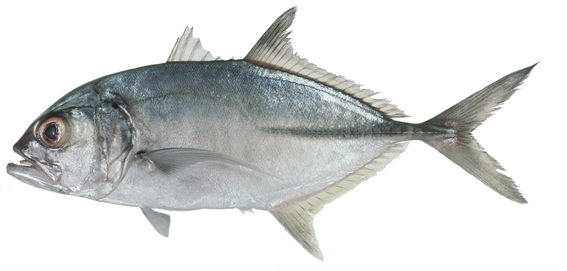fish: (6, 6, 537, 261)
